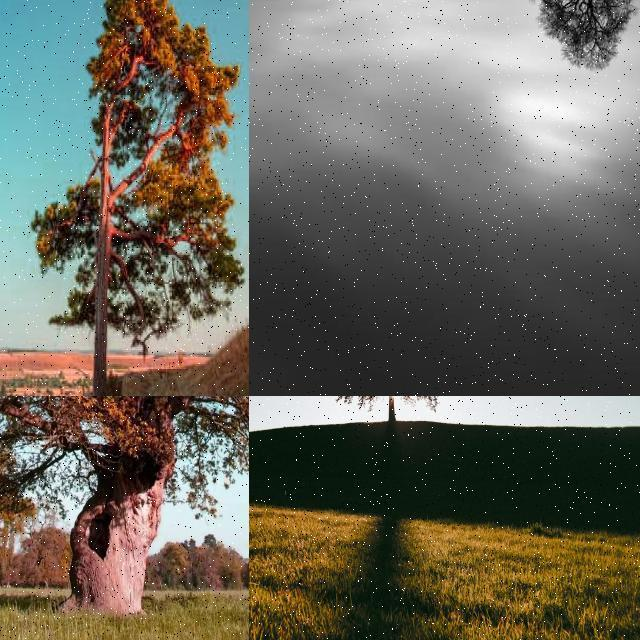tree: (28, 0, 244, 396), (0, 396, 248, 640), (533, 0, 637, 76), (334, 396, 434, 470)
